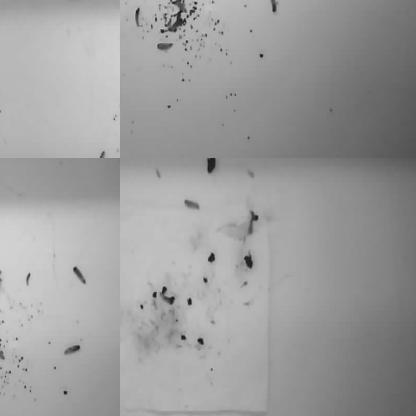PtecticusTenebrifer: (72, 265, 86, 285), (183, 196, 200, 210), (62, 344, 81, 356), (159, 291, 174, 304), (156, 41, 175, 51), (265, 0, 283, 9), (120, 4, 126, 29), (183, 0, 195, 12), (0, 185, 7, 205), (0, 337, 5, 364), (0, 358, 7, 377), (0, 274, 4, 305), (134, 7, 140, 27), (269, 0, 277, 14), (180, 0, 190, 11), (0, 268, 6, 285), (0, 344, 6, 361), (120, 0, 131, 9), (0, 338, 7, 351), (0, 369, 7, 382), (120, 375, 126, 390), (98, 148, 105, 158), (26, 270, 31, 284), (120, 0, 129, 7), (66, 0, 81, 4), (219, 0, 228, 6), (0, 158, 8, 163)
